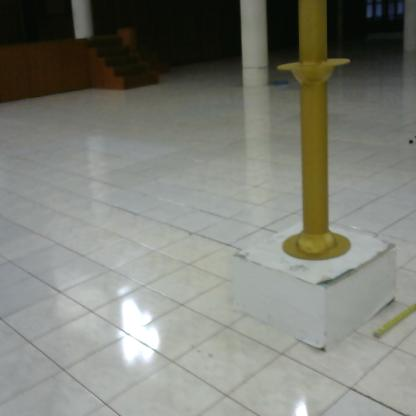pole: (266, 1, 362, 269)
